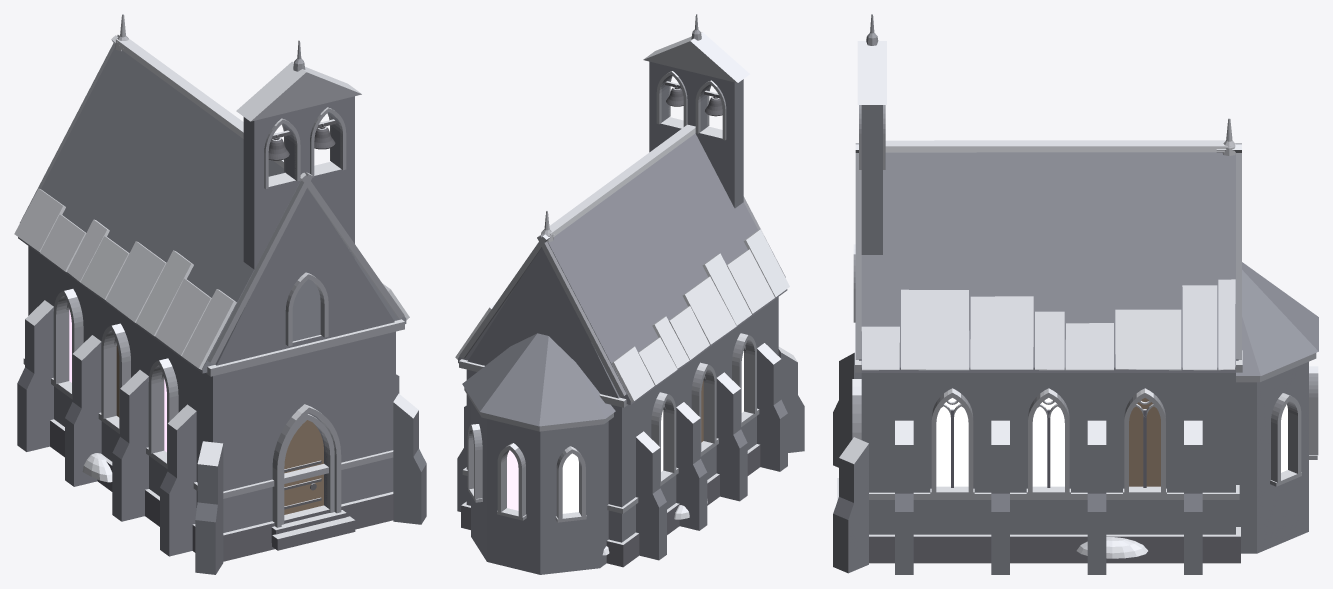
File: AR_Capela.fbx
3 views of the same model, side by side, from view 1: azimuth 30°, elevation 25°; view 2: azimuth 150°, elevation 25°; view 3: azimuth 270°, elevation 25° (orthographic). The views are drawn at different scales.
Visible parts, largest first — view 1: AR_Capela; view 2: AR_Capela; view 3: AR_Capela.
Boxes of the visible parts, <box> form: AR_Capela: <box>14,14,426,574</box>; AR_Capela: <box>455,14,804,574</box>; AR_Capela: <box>833,14,1318,574</box>.
Size of the model in its own units: 10.4 by 20.7 by 18.16.
